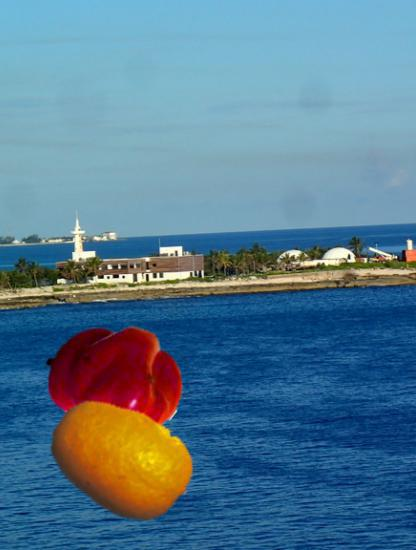Kumquats: (50, 387, 194, 531)
Pepper: (50, 312, 185, 447)
